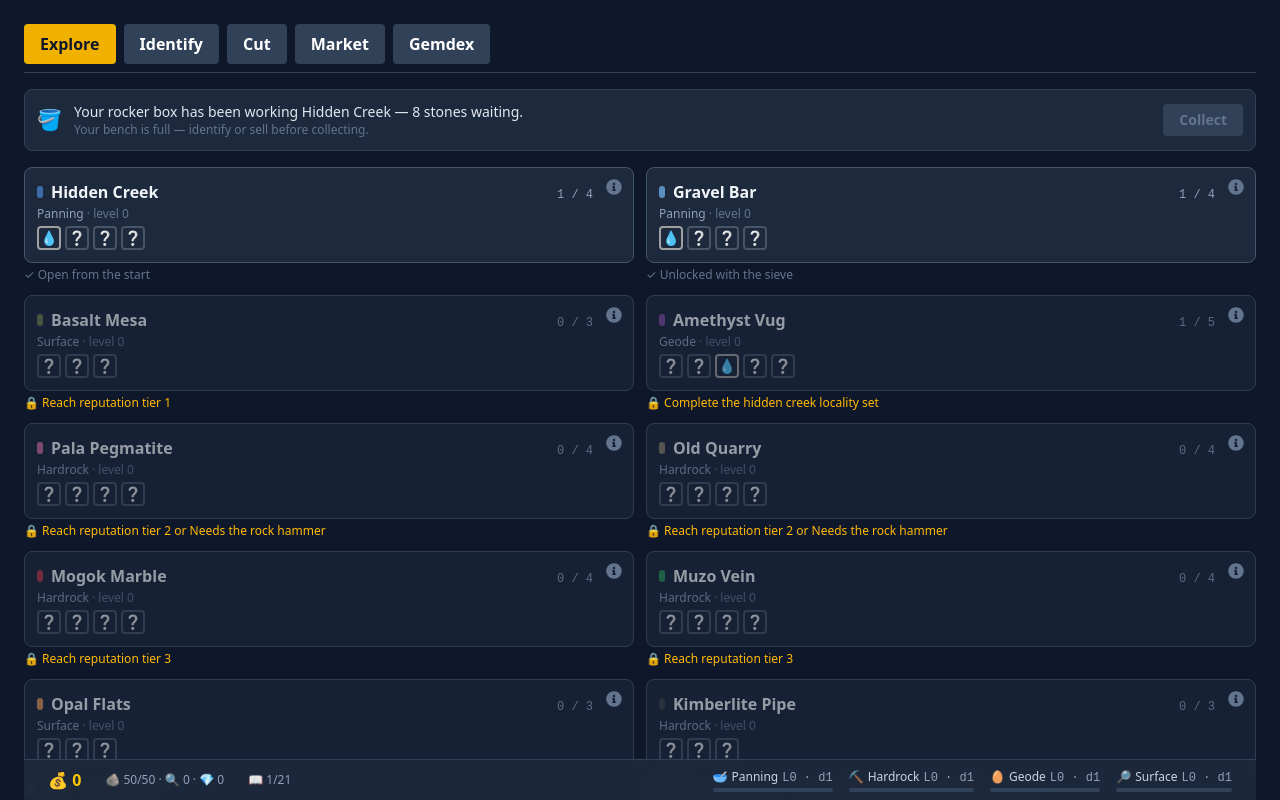
Test case: the rocker box end to end › blocks moving the box when its pending haul would land past the bench cap
What coordinates should you click on to do the following:
click the button with aria-label "Gravel Bar,"
I would click on:
 (715, 192)
Its box is [646,167,1256,263].
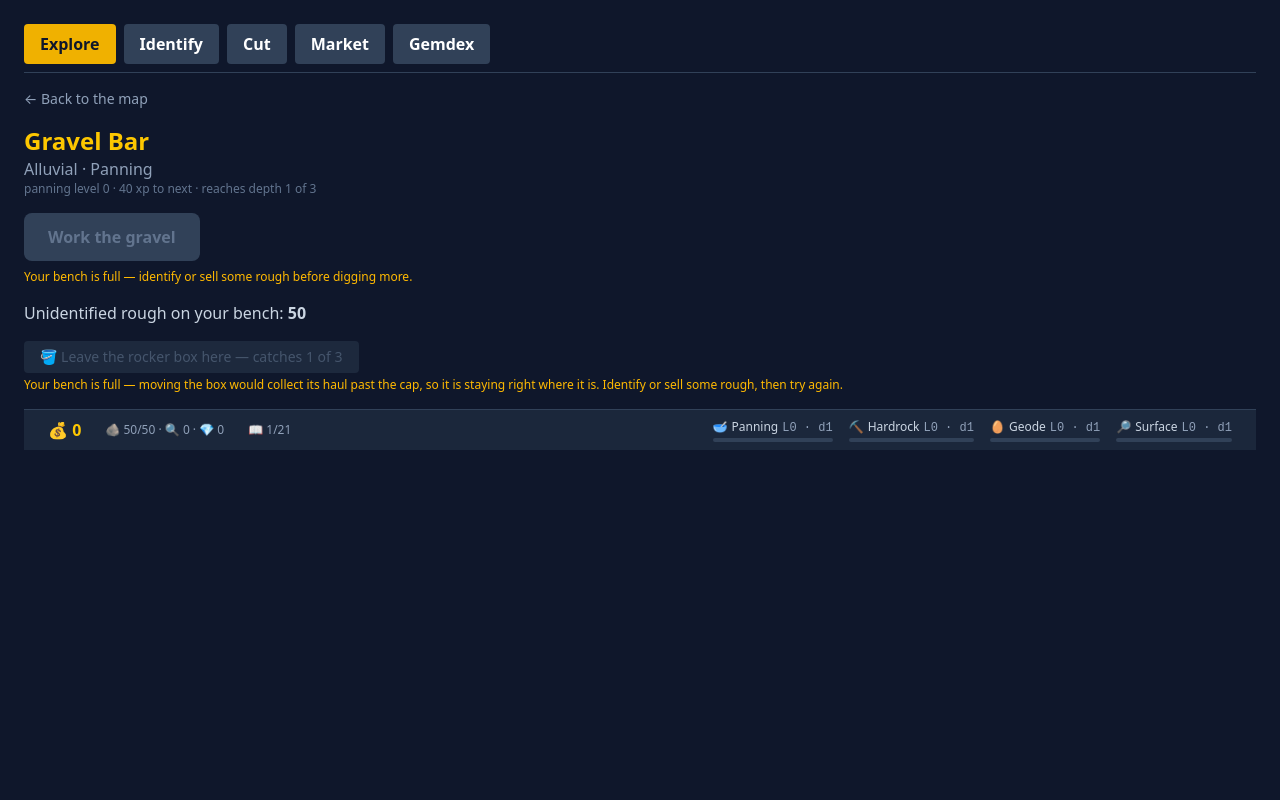
Expected: the button "🪣 Leave the rocker box here — catches 1 of 3" is disabled, [24,341,358,373]
Expected: the text "staying right where it is" is shown, [24,376,843,393]
